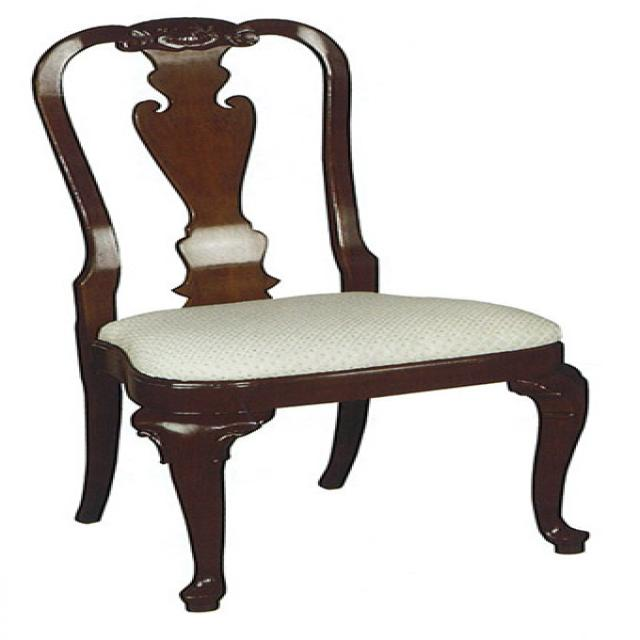chair: (33, 15, 592, 618)
